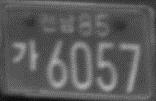0: (68, 39, 95, 91)
5: (95, 40, 119, 92), (94, 11, 111, 38)
6: (45, 39, 68, 88)
7: (118, 40, 143, 92)
8: (78, 12, 93, 37)
가: (12, 39, 38, 72)
전남_O: (37, 10, 76, 33)
